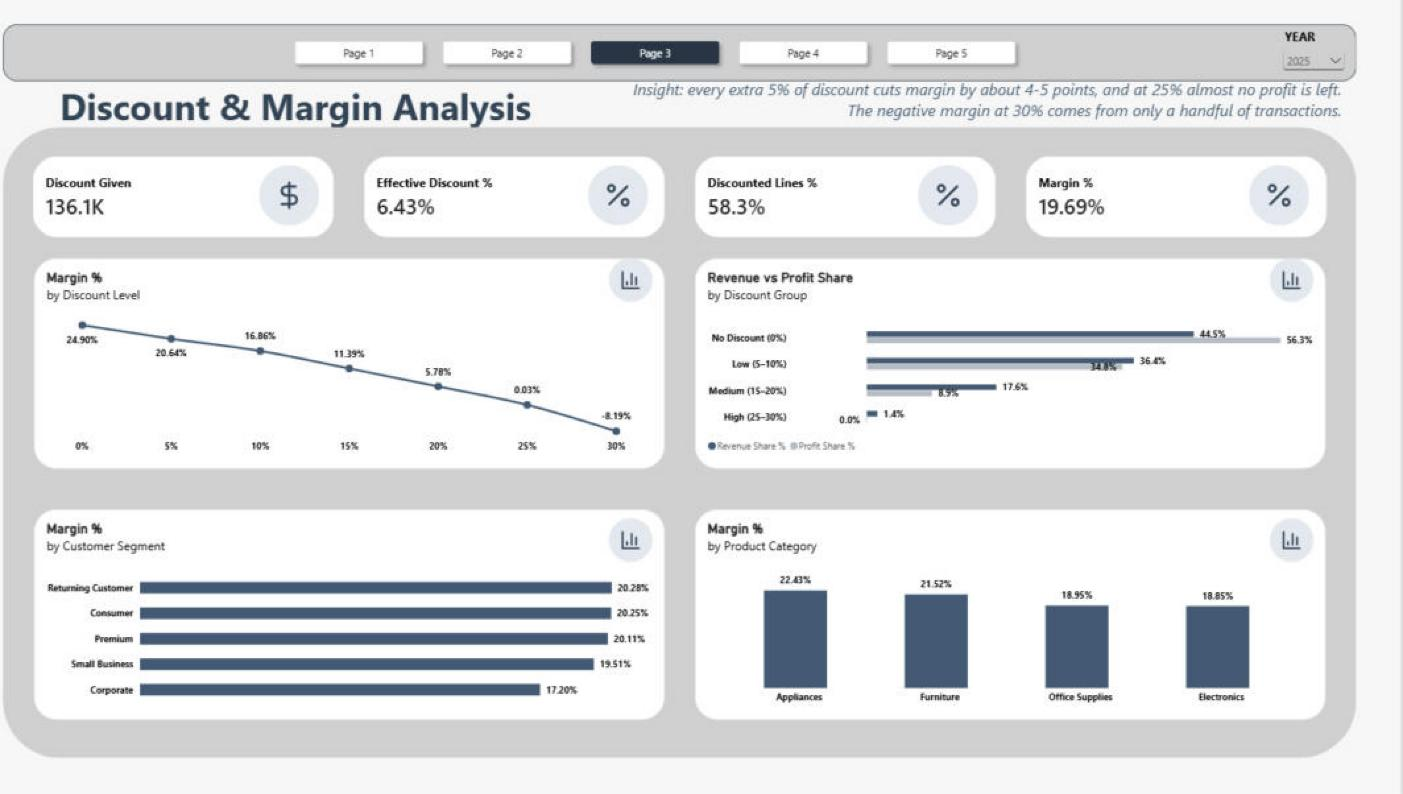

What the dashboard file says about the page in this screenshot:
{"tool":"powerbi","page":{"name":"Page 3","canvas":[1920,1080],"ordinal":2},"visuals":[{"type":"shape","box":[59.8,43.8,1800.4,75.9],"z":0},{"type":"shape","box":[59.8,180.9,1800.4,838.9],"z":0,"group":"g1"},{"type":"textbox","title":"Discount & Margin Analysis","box":[135.7,119.6,1000,61.3],"z":1000},{"type":"group","id":"g1","title":"Group 1","box":[59.8,180.9,1800.4,838.9],"z":2000},{"type":"cardVisual","fields":{"Data":["vw_valid_sales.Discount Given"]},"box":[100,219.6,400,108.9],"z":3000,"group":"g1"},{"type":"image","box":[1254.7,232,125.5,80.2],"z":3000},{"type":"cardVisual","fields":{"Data":["vw_valid_sales.Effective Discount %"]},"box":[540,219,400,108.9],"z":4000,"group":"g1"},{"type":"image","box":[377.2,231.8,125.5,80.2],"z":4000},{"type":"slicer","fields":{"Values":["vw_valid_sales.Order_Year"]},"box":[1757.1,49.9,93.1,63.2],"z":5000},{"type":"cardVisual","fields":{"Data":["vw_valid_sales.Discounted Lines %"]},"box":[980,219,400,108.9],"z":5000,"group":"g1"},{"type":"cardVisual","fields":{"Data":["vw_valid_sales.Margin %"]},"box":[1420,219,400,108.9],"z":6000,"group":"g1"},{"type":"image","box":[850.1,355.7,90,57.6],"z":6000},{"type":"lineChart","fields":{"Category":["vw_valid_sales.Discount Level"],"Y":["vw_valid_sales.Margin %"]},"box":[100.7,355.7,838.9,279.8],"z":7000,"group":"g1"},{"type":"image","box":[1729.6,355.7,90,57.6],"z":7000},{"type":"clusteredBarChart","title":"Revenue vs Profit Share","fields":{"Category":["vw_valid_sales.Discount Group"],"Y":["vw_valid_sales.Revenue Share %","vw_valid_sales.Profit Share %"]},"box":[980.4,355.7,838.9,279.8],"z":8000,"group":"g1"},{"type":"image","box":[1729.6,701,90,57.6],"z":8000},{"type":"barChart","fields":{"Category":["vw_valid_sales.Customer_Segment"],"Y":["vw_valid_sales.Margin %"]},"box":[100.7,689.5,838.9,279.8],"z":9000,"group":"g1"},{"type":"image","box":[850.1,701,90,57.6],"z":9000},{"type":"image","box":[815.4,231.8,125.5,80.2],"z":10000},{"type":"columnChart","fields":{"Category":["vw_valid_sales.Product_Category"],"Y":["vw_valid_sales.Margin %"]},"box":[980.4,689.5,838.9,279.8],"z":10000,"group":"g1"},{"type":"image","box":[1695,231.8,125.5,80.2],"z":11000},{"type":"pageNavigator","box":[439.1,56.9,980.4,49.6],"z":12000},{"type":"textbox","box":[880,116,960,64],"z":13000}]}

Visuals, with their boxes in screenshot pixels (x1, y1, x2, y2), scaled from the page's 1920x1080 canvas onto the 1403x794 screenshot:
shape: [44, 32, 1359, 88]
shape: [44, 133, 1359, 750]
"Discount & Margin Analysis" textbox: [99, 88, 830, 133]
"Group 1" group: [44, 133, 1359, 750]
cardVisual - vw_valid_sales.Discount Given: [73, 161, 365, 242]
image: [917, 171, 1009, 230]
cardVisual - vw_valid_sales.Effective Discount %: [395, 161, 687, 241]
image: [276, 170, 367, 229]
slicer - vw_valid_sales.Order_Year: [1284, 37, 1352, 83]
cardVisual - vw_valid_sales.Discounted Lines %: [716, 161, 1008, 241]
cardVisual - vw_valid_sales.Margin %: [1038, 161, 1330, 241]
image: [621, 262, 687, 304]
lineChart - vw_valid_sales.Discount Level x vw_valid_sales.Margin %: [74, 262, 687, 467]
image: [1264, 262, 1330, 304]
"Revenue vs Profit Share" clusteredBarChart: [716, 262, 1329, 467]
image: [1264, 515, 1330, 558]
barChart - vw_valid_sales.Customer_Segment x vw_valid_sales.Margin %: [74, 507, 687, 713]
image: [621, 515, 687, 558]
image: [596, 170, 688, 229]
columnChart - vw_valid_sales.Product_Category x vw_valid_sales.Margin %: [716, 507, 1329, 713]
image: [1239, 170, 1330, 229]
pageNavigator: [321, 42, 1037, 78]
textbox: [643, 85, 1345, 132]
